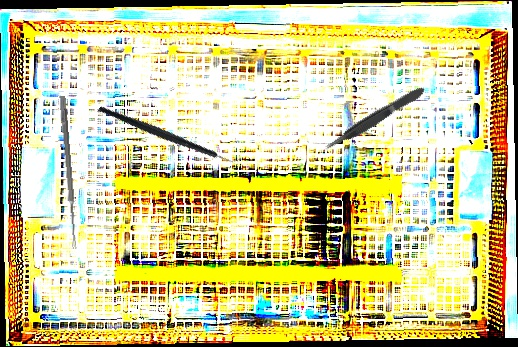Chopper: (97, 62, 244, 205)
Surgical Spoon: (58, 95, 79, 250)
Tissue Forceps: (320, 83, 429, 155)
